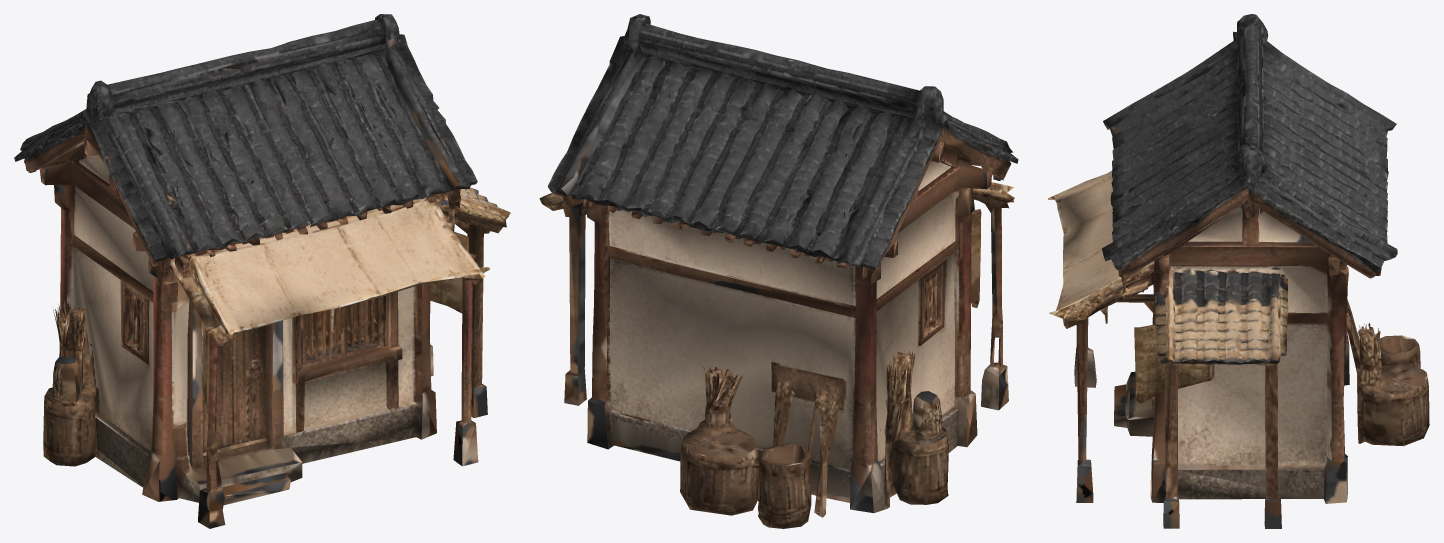
Rendered from 02_Narrow_One_Bay_House_LOD2.fbx.
3 views of the same model, side by side, from view 1: azimuth 30°, elevation 25°; view 2: azimuth 150°, elevation 25°; view 3: azimuth 270°, elevation 25° (orthographic). The views are drawn at different scales.
Parts seen in each view (by area): view 1: 02_Narrow_One_Bay_House_L2; view 2: 02_Narrow_One_Bay_House_L2; view 3: 02_Narrow_One_Bay_House_L2.
Boxes of the visible parts, bbox=[...] form: 02_Narrow_One_Bay_House_L2: bbox=[14, 14, 510, 528]; 02_Narrow_One_Bay_House_L2: bbox=[539, 14, 1018, 528]; 02_Narrow_One_Bay_House_L2: bbox=[1048, 14, 1429, 528].
Size of the model in its own units: 5.49 by 5 by 4.8.
